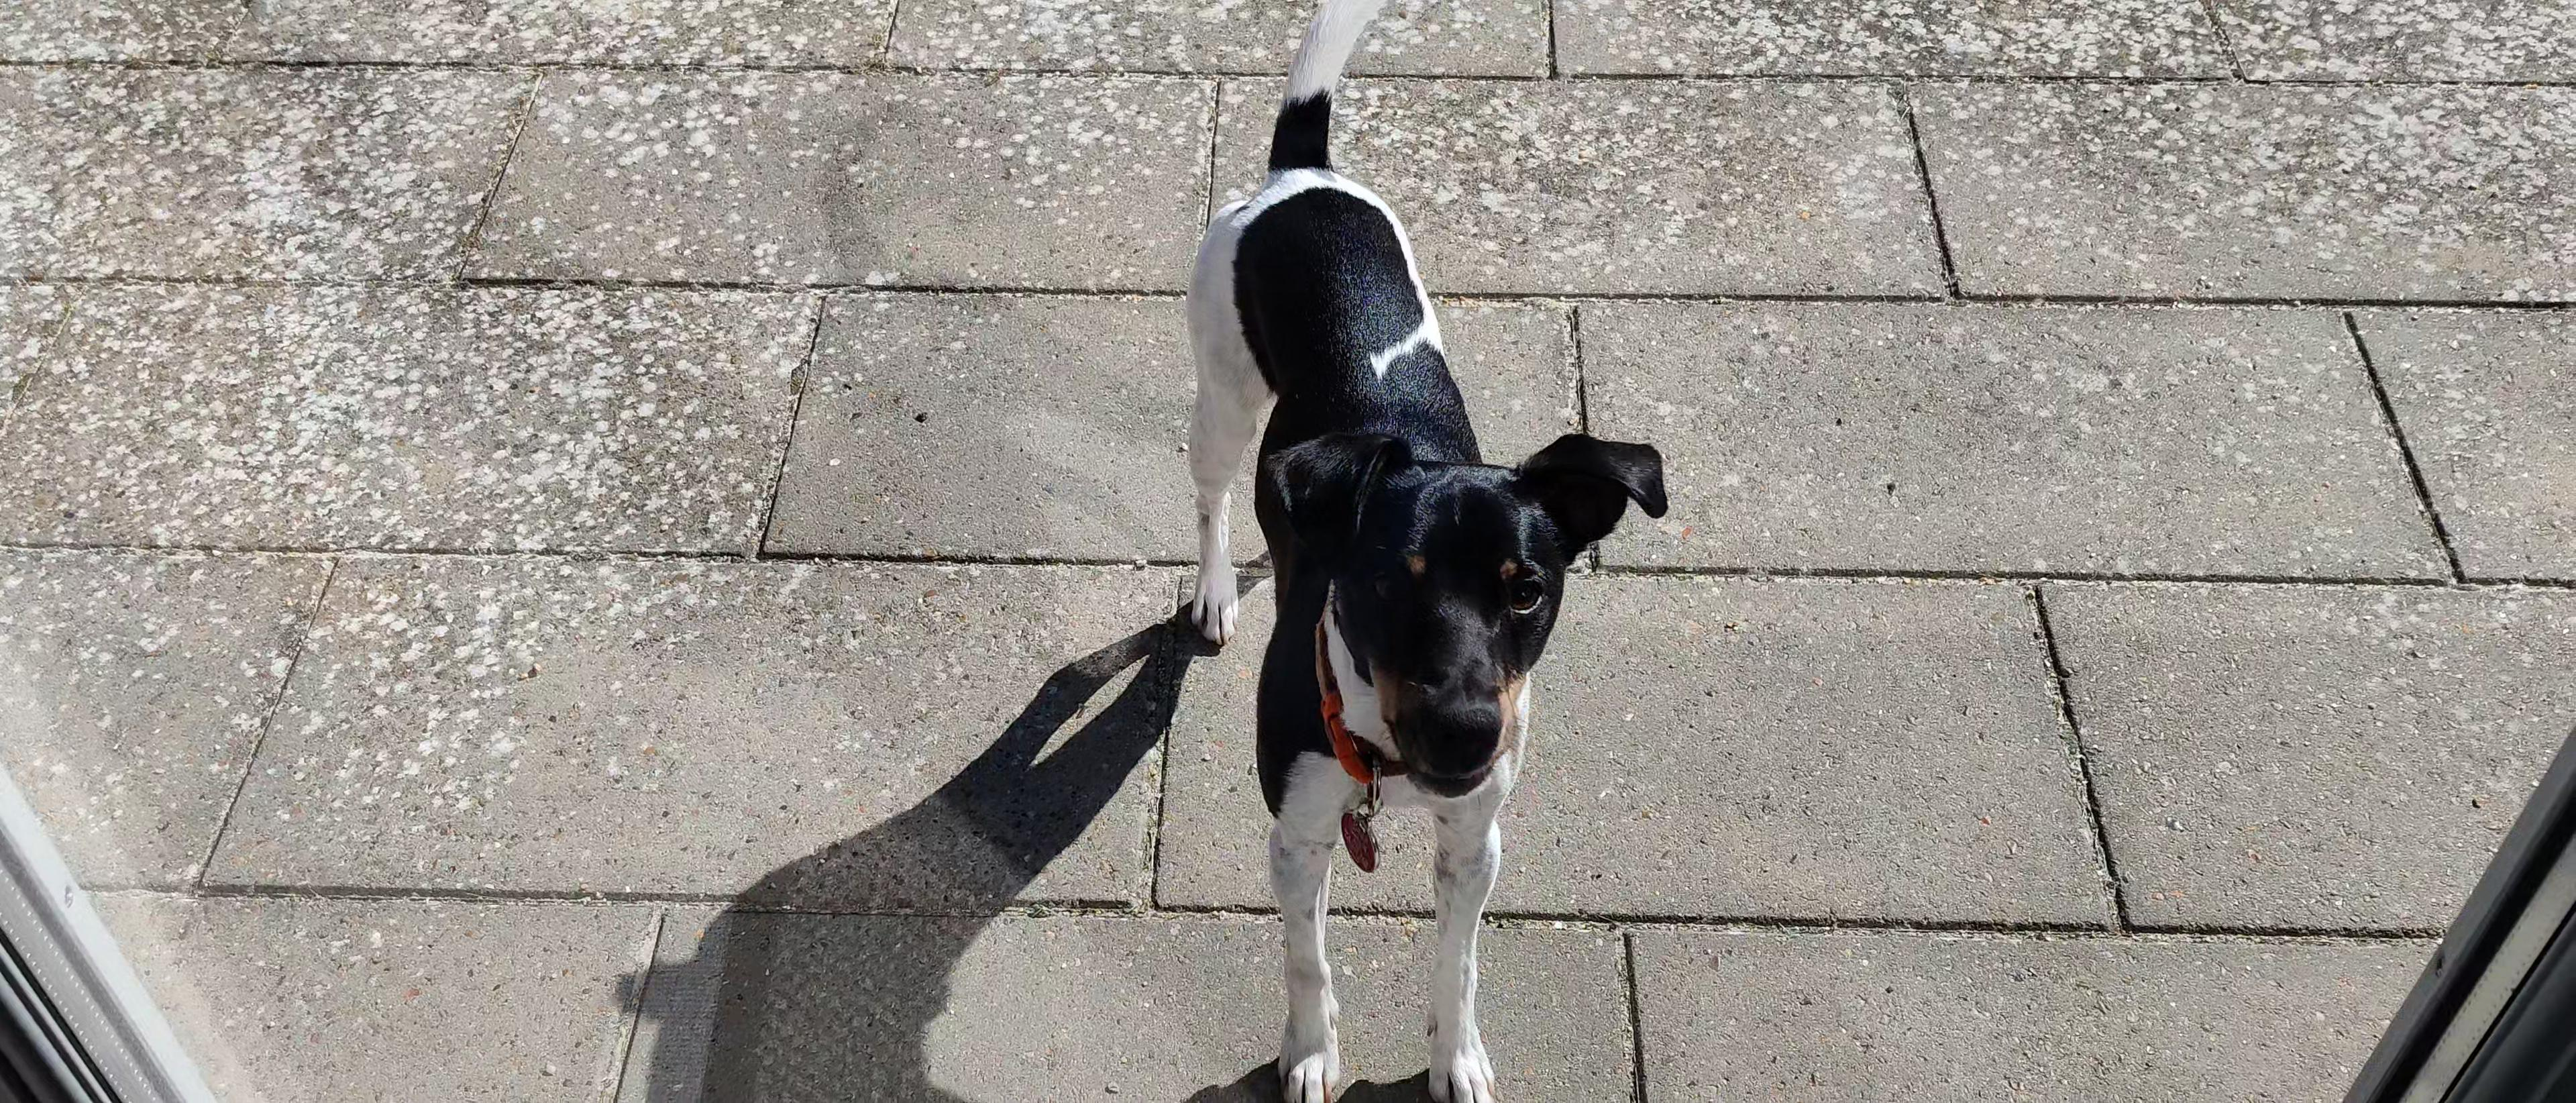Dog: (1180, 0, 1669, 1103)
